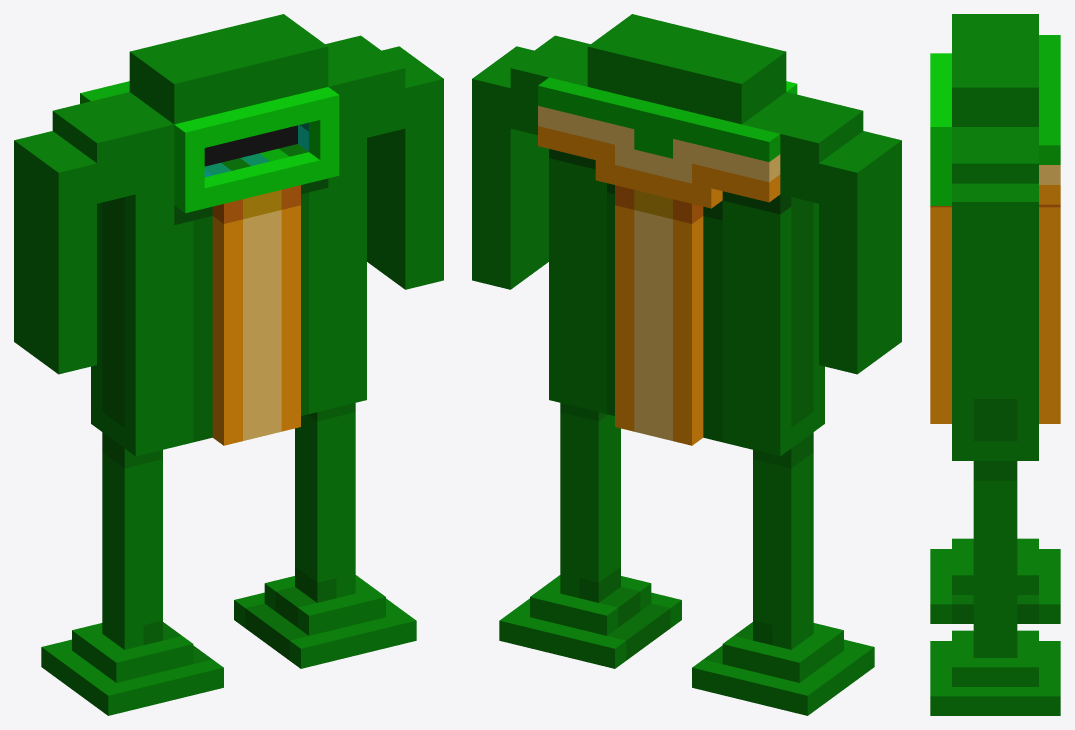
File: Green Robot.obj
3 renders of one model, left to right at view 1: azimuth 30°, elevation 25°; view 2: azimuth 150°, elevation 25°; view 3: azimuth 270°, elevation 25°, orthographic. The views are drawn at different scales.
Bounding box in the file's own units: 20 × 30 × 6.
1 material, 1 textured.
